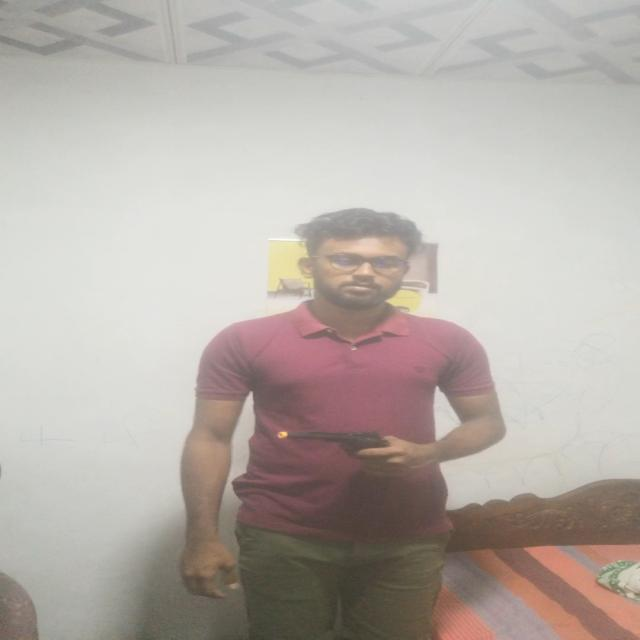Gun_Holder: (266, 419, 444, 475)
Person: (168, 209, 516, 640)
